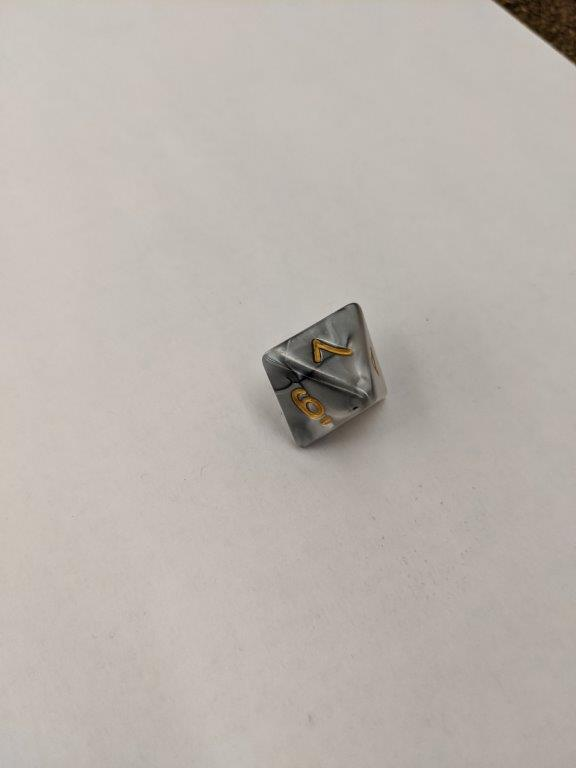d8-7: (260, 305, 385, 449)
